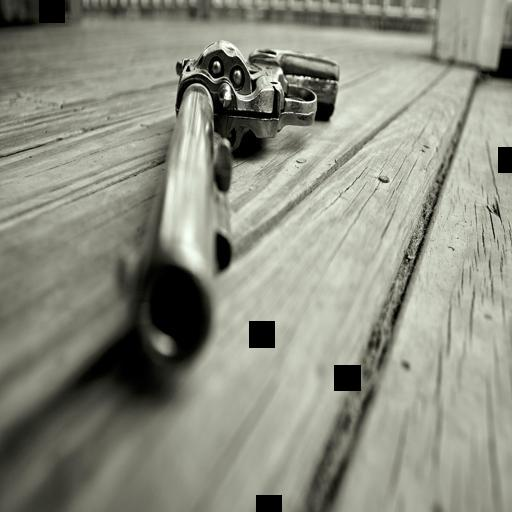Handgun: (122, 38, 340, 374)
